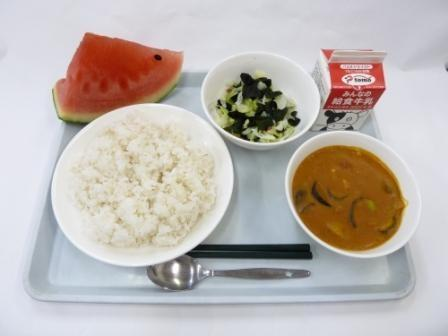Curry: (287, 138, 419, 255)
Milk: (310, 42, 393, 129)
Rice: (57, 110, 224, 250)
Salad: (208, 61, 312, 145)
watermelon: (55, 28, 182, 120)
